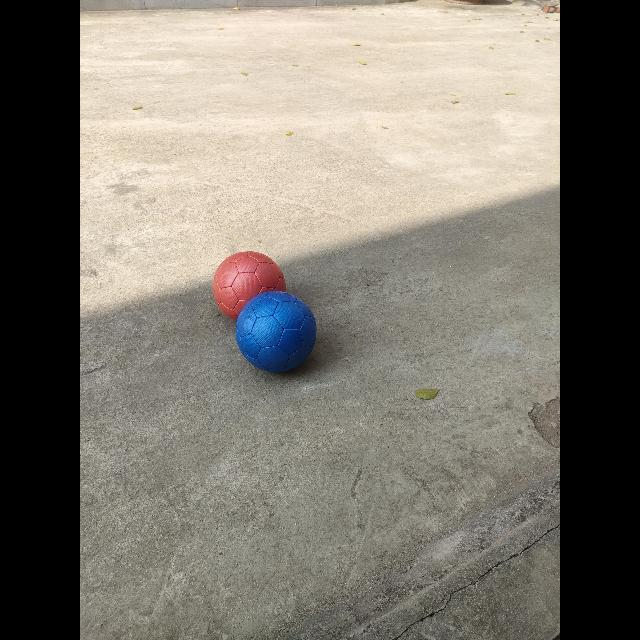B: (235, 291, 316, 372), (212, 251, 285, 320)
